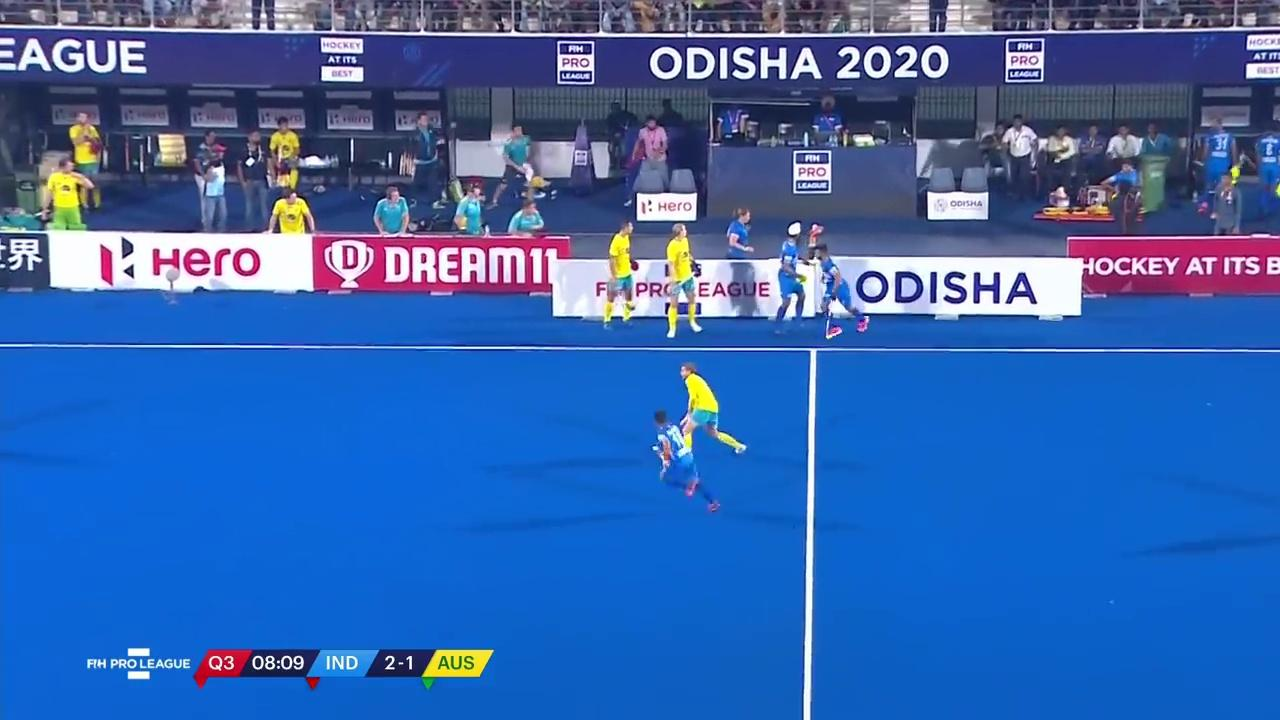ball: (650, 442, 662, 455)
